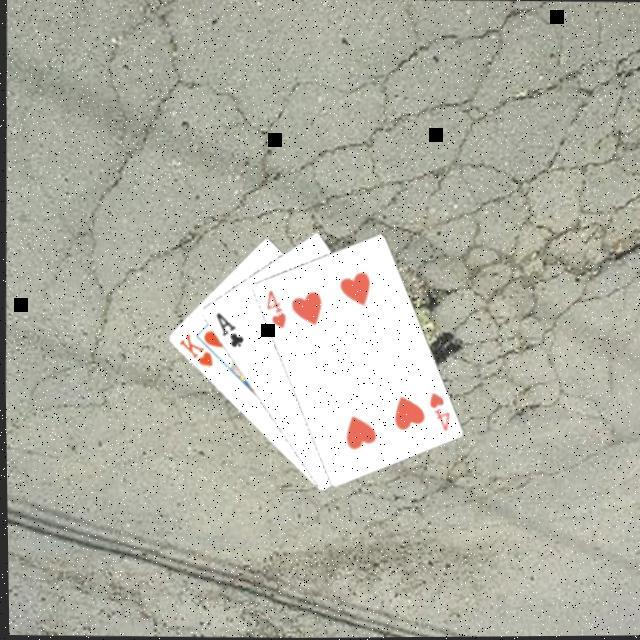4H: (424, 390, 453, 434), (260, 288, 288, 332)
AC: (211, 308, 248, 352)
KH: (174, 332, 216, 371)
